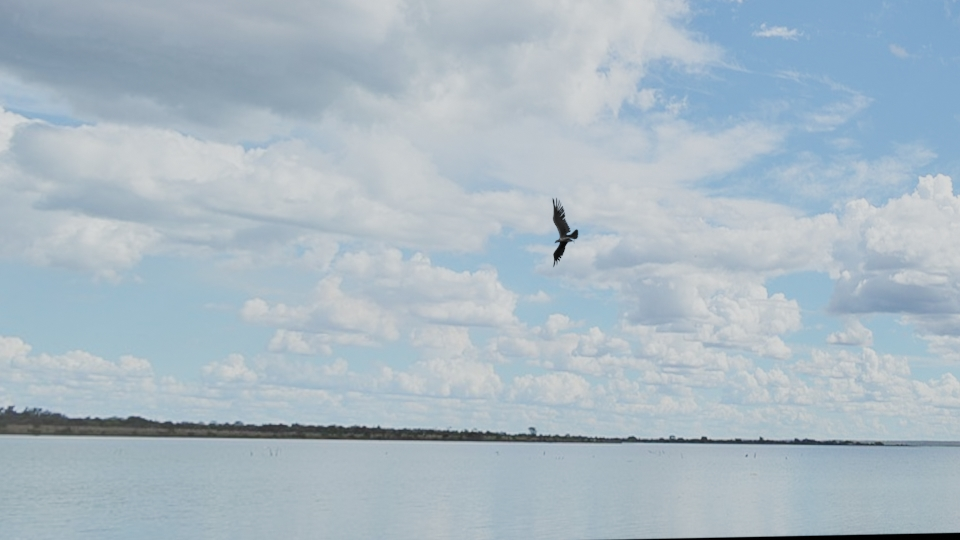bird: (545, 196, 579, 268)
